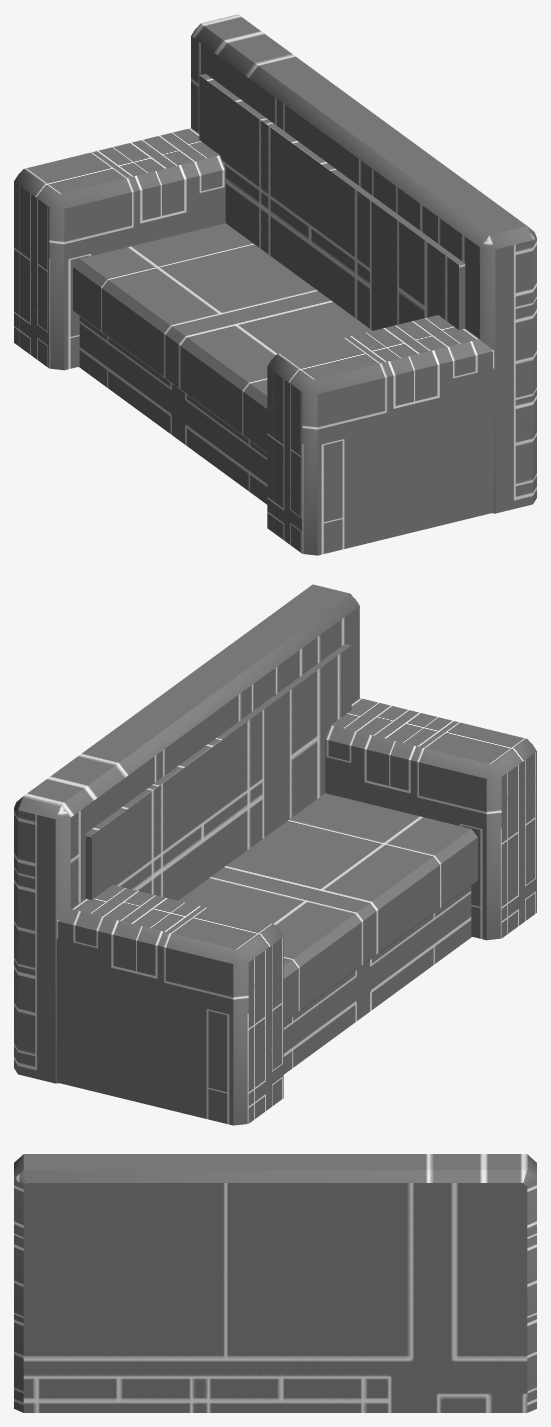
File: CouchUnwrapped1.fbx
3 views of the same model, one above another, from view 1: azimuth 30°, elevation 25°; view 2: azimuth 150°, elevation 25°; view 3: azimuth 270°, elevation 25° (orthographic). The views are drawn at different scales.
Visible parts, largest first — view 1: Back, Armrest, Seat, Armrest_1; view 2: Back, Armrest_1, Seat, Armrest; view 3: Back.
Boxes of the visible parts, left/top/right/bottom form: Back: left=191, top=14, right=536, bottom=513; Armrest: left=267, top=315, right=494, bottom=555; Seat: left=73, top=223, right=372, bottom=504; Armrest_1: left=14, top=128, right=225, bottom=370; Back: left=14, top=584, right=359, bottom=1083; Armrest_1: left=56, top=885, right=283, bottom=1125; Seat: left=178, top=793, right=477, bottom=1074; Armrest: left=325, top=698, right=536, bottom=940; Back: left=14, top=1154, right=536, bottom=1412.
Bounding box in the file's own units: 364 × 408 × 809.
